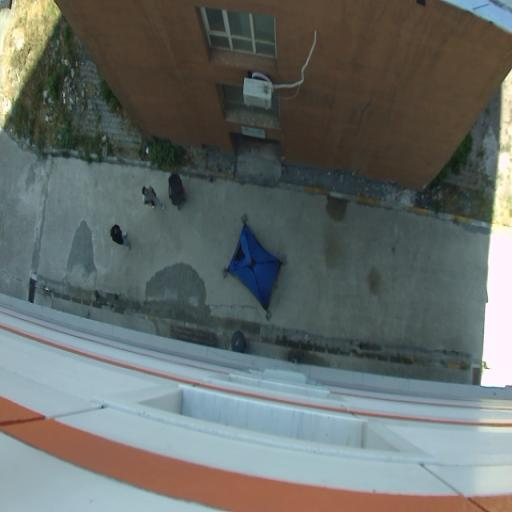tent: (215, 207, 296, 321)
